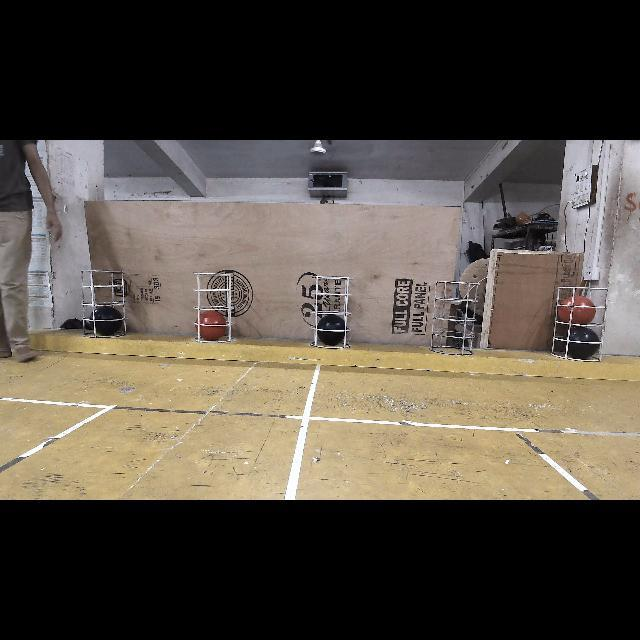P: (564, 327, 598, 359), (90, 306, 124, 334), (317, 314, 348, 344)
R: (558, 296, 596, 326), (195, 312, 227, 341)
S: (551, 282, 611, 362), (430, 279, 480, 357), (79, 268, 133, 338), (308, 273, 352, 351), (190, 270, 234, 344)
